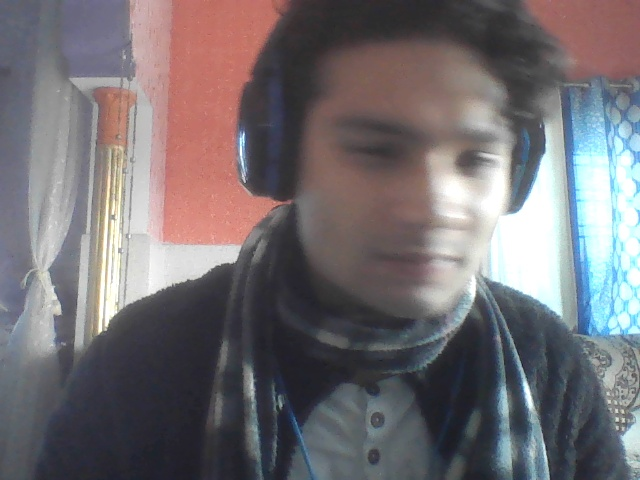real: (266, 0, 540, 389)
